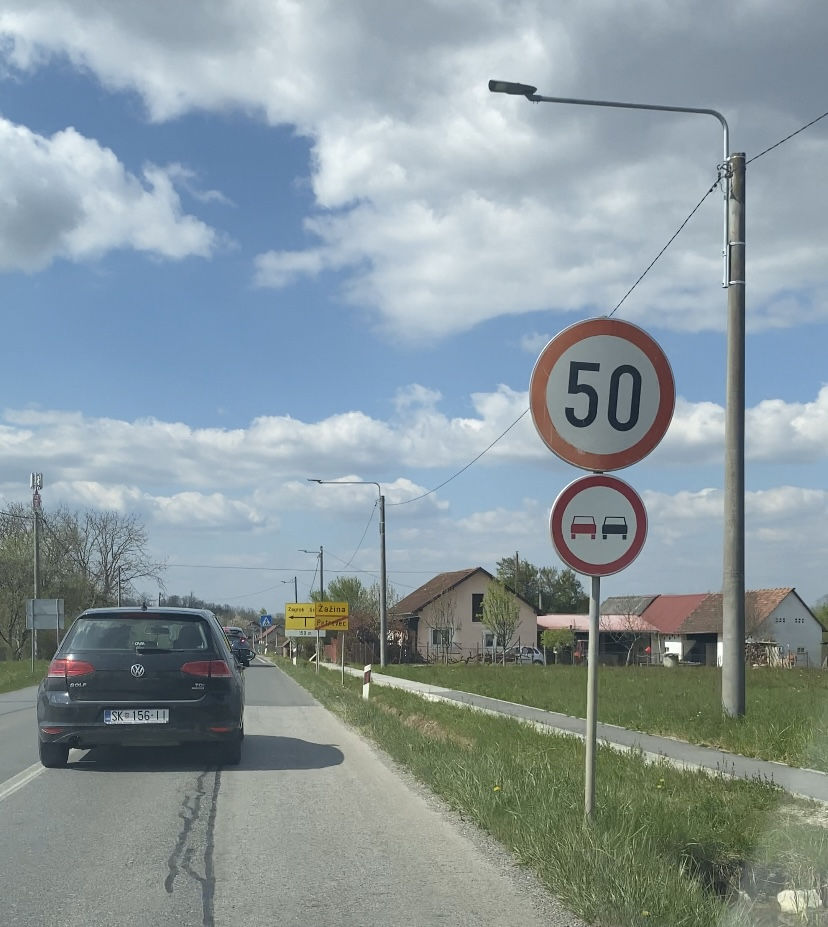Ograničenje brzine 50: (530, 317, 677, 473)
Pješački prijelaz: (261, 616, 272, 627)
Zabrana pretjecanja: (550, 475, 648, 577)
